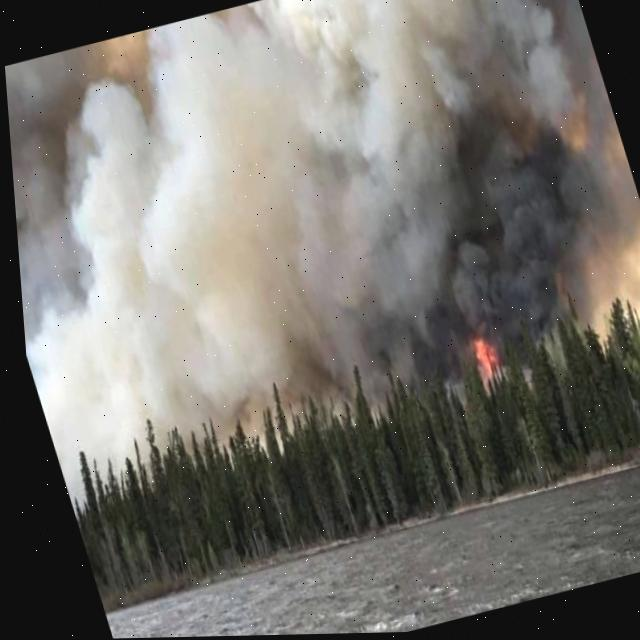smoke: (4, 0, 640, 476)
